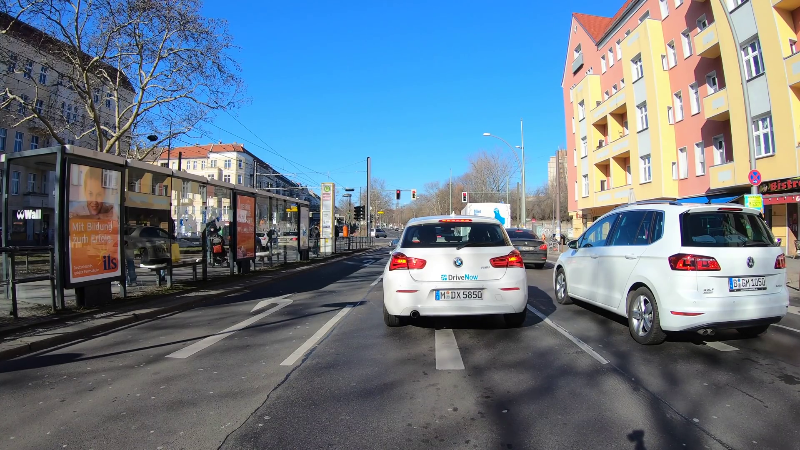Plate: (434, 288, 484, 300), (729, 275, 767, 289)
